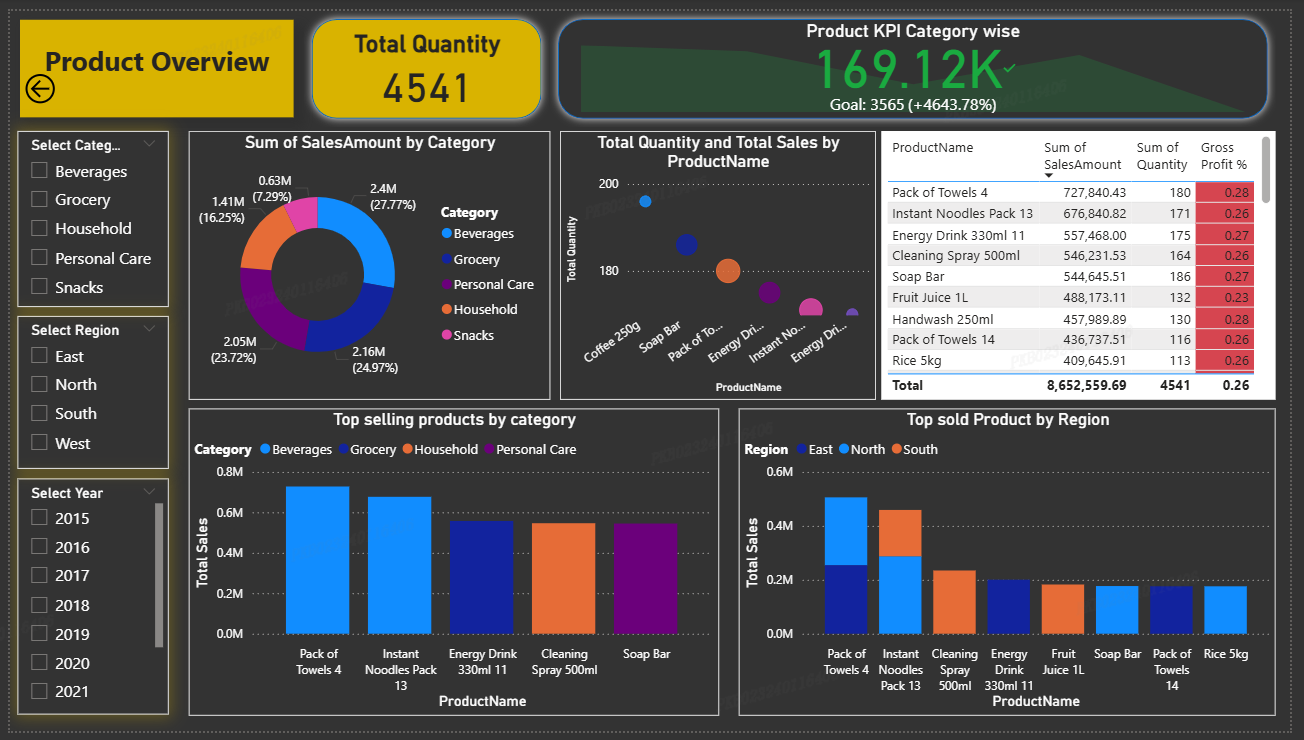

Layout of this report page (visuals, bound fields, positions):
{"tool":"powerbi","page":{"name":"Product Analysis","canvas":[1280,720],"ordinal":4},"visuals":[{"type":"donutChart","fields":{"Y":["Sum(Sales.SalesAmount)"],"Category":["Products.Category"]},"box":[178.6,120,361.4,268.6],"z":0},{"type":"lineStackedColumnComboChart","title":"Top selling products by category","fields":{"Category":["Products.ProductName"],"Y":["Measures_Table.Total Sales"],"Series":["Products.Category"]},"box":[178.6,397.1,530,307.1],"z":1000},{"type":"slicer","fields":{"Values":["Sales.SalesDate.Variation.Date Hierarchy.Year"]},"box":[7.4,468,151.4,235.7],"z":2000},{"type":"tableEx","fields":{"Values":["Products.ProductName","Sum(Sales.SalesAmount)","Sum(Sales.Quantity)","Measures_Table.Gross Profit %"]},"box":[871.4,120,394.3,268.6],"z":3000},{"type":"slicer","fields":{"Values":["Customers.Region"]},"box":[7.4,305.1,151.4,152.9],"z":4000},{"type":"textbox","box":[10,8.8,273.8,97.5],"z":5000},{"type":"shape","box":[294.3,0,245.7,115.7],"z":6000},{"type":"card","title":"Total Quantity","fields":{"Values":["Measures_Table.Total Quantity"]},"box":[317.1,18.6,200,80],"z":7000},{"type":"slicer","fields":{"Values":["Products.Category"]},"box":[7.1,120,151.4,175.7],"z":8000},{"type":"scatterChart","fields":{"Y":["Measures_Table.Total Quantity"],"Size":["Measures_Table.Total Sales"],"X":["Products.ProductName"]},"box":[550,120,315.7,268.6],"z":9000},{"type":"lineStackedColumnComboChart","title":"Top sold Product by Region","fields":{"Category":["Products.ProductName"],"Y":["Measures_Table.Total Sales"],"Series":["Customers.Region"]},"box":[728.6,397.1,537.1,307.1],"z":10000},{"type":"shape","box":[540,0,725.7,115.7],"z":11000},{"type":"kpi","title":"Product KPI Category wise","fields":{"Indicator":["Measures_Table.Gross Profit"],"TrendLine":["Products.Category"],"Goal":["Sum(Products.Cost)"]},"box":[566.7,9.2,674.2,97.5],"z":14000},{"type":"actionButton","box":[9.8,57.5,100.3,40.4],"z":14001}]}

Visuals, with their boxes in screenshot pixels (x1, y1, x2, y2), scaled from the page's 1280x720 canvas onto the 1304x740 screenshot:
donutChart - Sum(Sales.SalesAmount) x Products.Category: bbox=(182, 123, 550, 399)
"Top selling products by category" lineStackedColumnComboChart: bbox=(182, 408, 722, 724)
slicer - Sales.SalesDate.Variation.Date Hierarchy.Year: bbox=(8, 481, 162, 723)
tableEx - Products.ProductName x Sum(Sales.SalesAmount): bbox=(888, 123, 1289, 399)
slicer - Customers.Region: bbox=(8, 314, 162, 471)
textbox: bbox=(10, 9, 289, 109)
shape: bbox=(300, 0, 550, 119)
"Total Quantity" card: bbox=(323, 19, 527, 101)
slicer - Products.Category: bbox=(7, 123, 161, 304)
scatterChart - Measures_Table.Total Quantity x Measures_Table.Total Sales: bbox=(560, 123, 882, 399)
"Top sold Product by Region" lineStackedColumnComboChart: bbox=(742, 408, 1289, 724)
shape: bbox=(550, 0, 1289, 119)
"Product KPI Category wise" kpi: bbox=(577, 9, 1264, 110)
actionButton: bbox=(10, 59, 112, 101)
